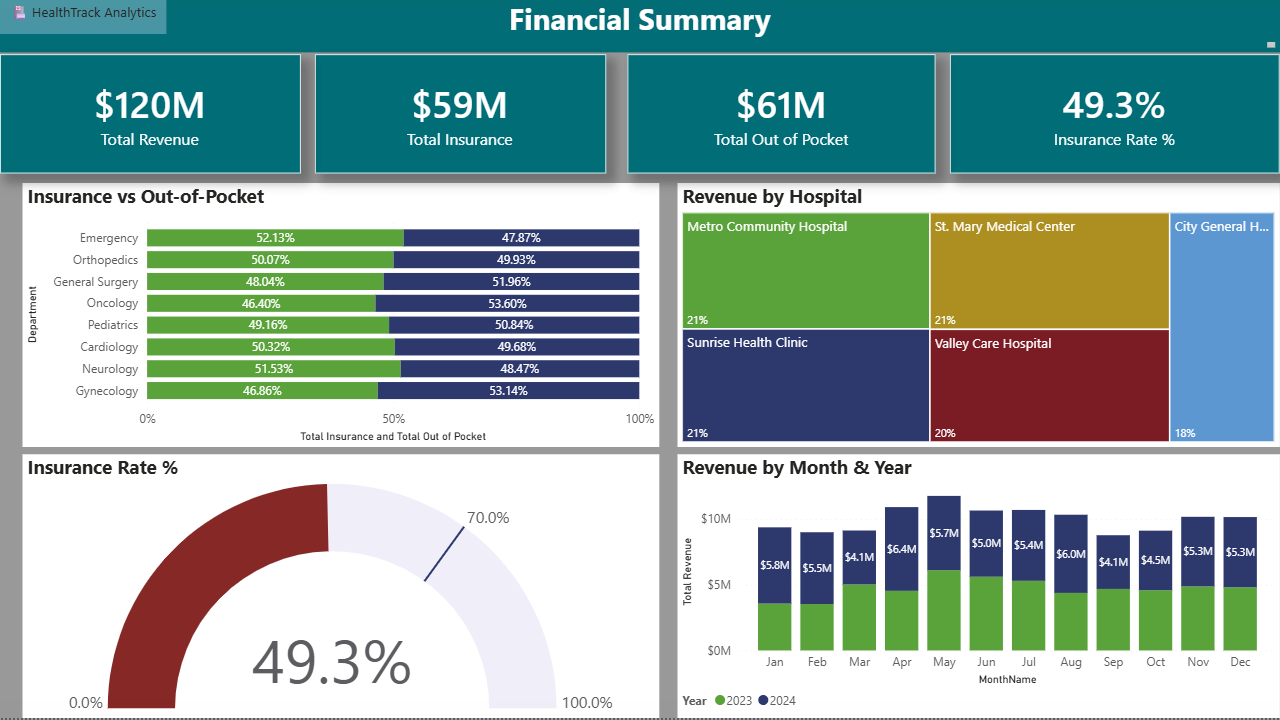

Layout of this report page (visuals, bound fields, positions):
{"tool":"powerbi","page":{"name":"Financial Summary","canvas":[1280,720],"ordinal":2},"visuals":[{"type":"textbox","title":"Financial Summary","box":[0,0,1280,54.3],"z":0},{"type":"hundredPercentStackedBarChart","title":"Insurance vs Out-of-Pocket","fields":{"Category":["Admissions.Department"],"Y":["_Measures.Total Insurance","_Measures.Total Out of Pocket"]},"box":[22.9,184.6,637,264.2],"z":1000},{"type":"treemap","title":"Revenue by Hospital","fields":{"Group":["Admissions.Hospital"],"Values":["_Measures.Total Revenue"]},"box":[678,184.6,602,264.2],"z":2000},{"type":"columnChart","title":"Revenue by Month & Year","fields":{"Category":["DimDate.MonthName"],"Series":["DimDate.Year"],"Y":["_Measures.Total Revenue"]},"box":[678,456,602,264.2],"z":3000},{"type":"gauge","fields":{"Y":["_Measures.Insurance Rate %"]},"box":[22.9,456,637,264.2],"z":4000},{"type":"textbox","box":[0,0,166.5,36.2],"z":5000},{"type":"cardVisual","fields":{"Data":["_Measures.Insurance Rate %"]},"box":[950.4,56.2,329.8,119.5],"z":6000},{"type":"cardVisual","fields":{"Data":["_Measures.Total Out of Pocket"]},"box":[627.8,56.2,308.2,119.5],"z":7000},{"type":"cardVisual","fields":{"Data":["_Measures.Total Insurance"]},"box":[315.4,56.2,290.9,119.5],"z":8000},{"type":"cardVisual","fields":{"Data":["_Measures.Total Revenue"]},"box":[0,56.2,301,119.5],"z":9000}]}

Visuals, with their boxes on the page's 1280x720 design canvas (x1, y1, x2, y2). These are canvas units, not pixel positions in the 1280x720 screenshot, which may show the page scaled, cropped or inside an application window:
"Financial Summary" textbox: <bbox>0, 0, 1280, 54</bbox>
"Insurance vs Out-of-Pocket" hundredPercentStackedBarChart: <bbox>23, 185, 660, 449</bbox>
"Revenue by Hospital" treemap: <bbox>678, 185, 1280, 449</bbox>
"Revenue by Month & Year" columnChart: <bbox>678, 456, 1280, 720</bbox>
gauge - _Measures.Insurance Rate %: <bbox>23, 456, 660, 720</bbox>
textbox: <bbox>0, 0, 166, 36</bbox>
cardVisual - _Measures.Insurance Rate %: <bbox>950, 56, 1280, 176</bbox>
cardVisual - _Measures.Total Out of Pocket: <bbox>628, 56, 936, 176</bbox>
cardVisual - _Measures.Total Insurance: <bbox>315, 56, 606, 176</bbox>
cardVisual - _Measures.Total Revenue: <bbox>0, 56, 301, 176</bbox>
